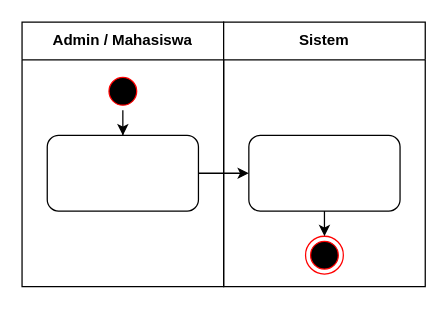
Image size: 447x309. Some labels were removed from this diagram. The centre of each missing label's shape, as x and y in pixels:
Menampilkan Panel Credits: (324,172)
Menekan Tombol Credits: (122,172)
